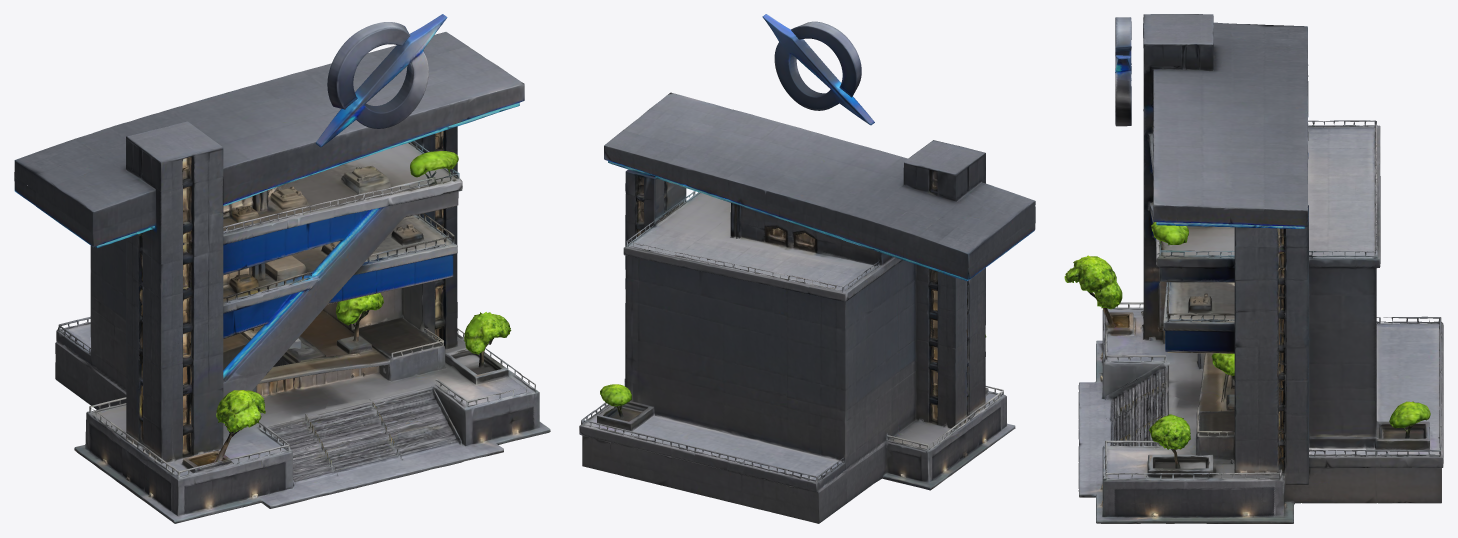
Rendered from grok-building-v2.glb.
3 renders of one model, left to right at view 1: azimuth 30°, elevation 25°; view 2: azimuth 150°, elevation 25°; view 3: azimuth 270°, elevation 25°, orthographic. The views are drawn at different scales.
Parts seen in each view (by area): view 1: GrokShell, GrokLogo; view 2: GrokShell, GrokLogo; view 3: GrokShell, GrokLogo.
Boxes of the visible parts, x1,y1,x2,y2 form: GrokShell: [14, 32, 550, 523]; GrokLogo: [315, 14, 447, 147]; GrokShell: [579, 92, 1035, 523]; GrokLogo: [762, 14, 874, 125]; GrokShell: [1064, 14, 1443, 523]; GrokLogo: [1115, 17, 1131, 126].
Bounding box in the file's own units: 0.9803 × 0.9408 × 0.7582.
Materials: 2 (2 with a texture image).
